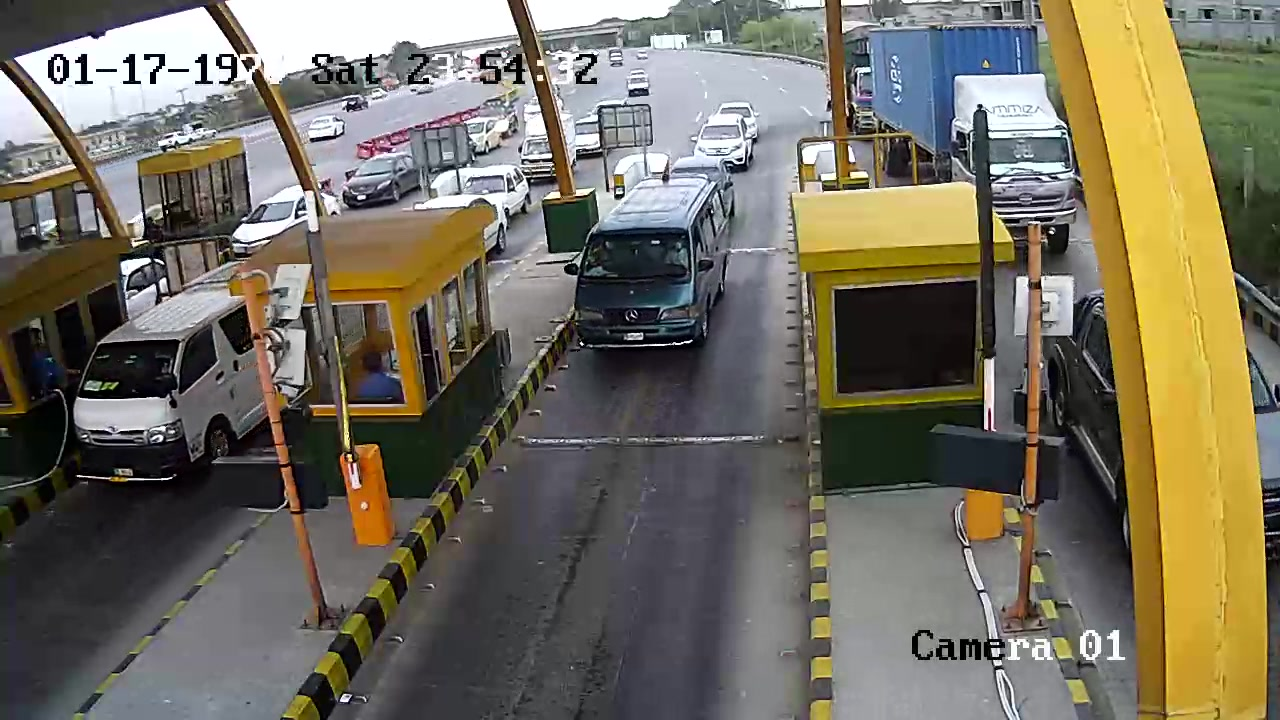F2: (571, 176, 737, 363)
